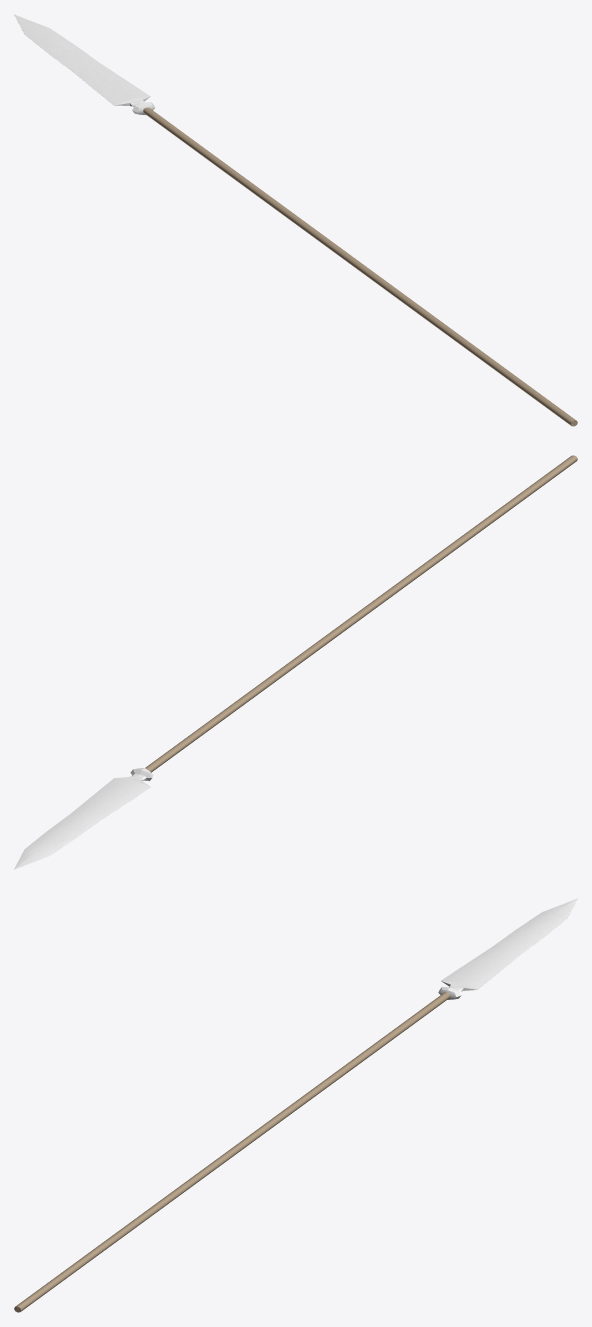
File: spear.FBX
The picture shows the model from 3 angles, top to bottom: view 1: azimuth 30°, elevation 25°; view 2: azimuth 150°, elevation 25°; view 3: azimuth 330°, elevation 25°; orthographic projection.
Visible parts, largest first — view 1: stick, knife; view 2: stick, knife; view 3: stick, knife.
Boxes of the visible parts, x1,y1,x2,y2 form: stick: [143, 107, 577, 426]; knife: [14, 14, 154, 114]; stick: [145, 455, 577, 772]; knife: [14, 768, 153, 869]; stick: [14, 992, 450, 1312]; knife: [438, 898, 577, 999].
Bounding box in the file's own units: 12.86 × 3.47 × 337.
